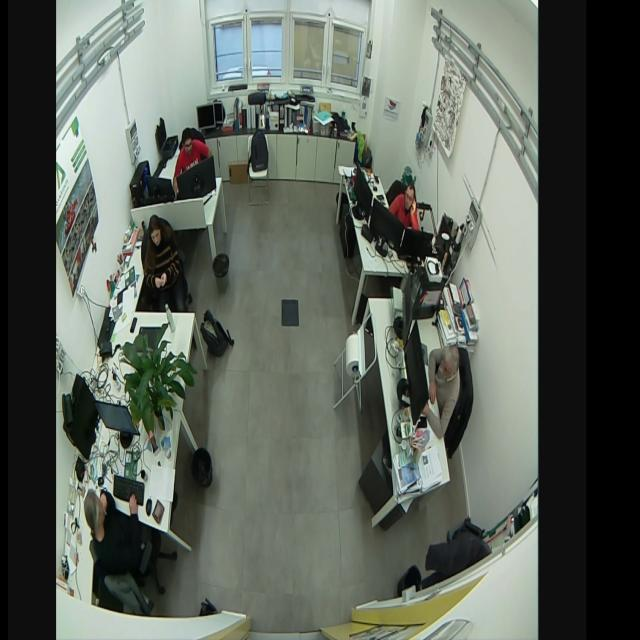Persona: (80, 485, 148, 574), (142, 212, 184, 312), (421, 342, 463, 440), (171, 121, 211, 180), (387, 180, 421, 233)
